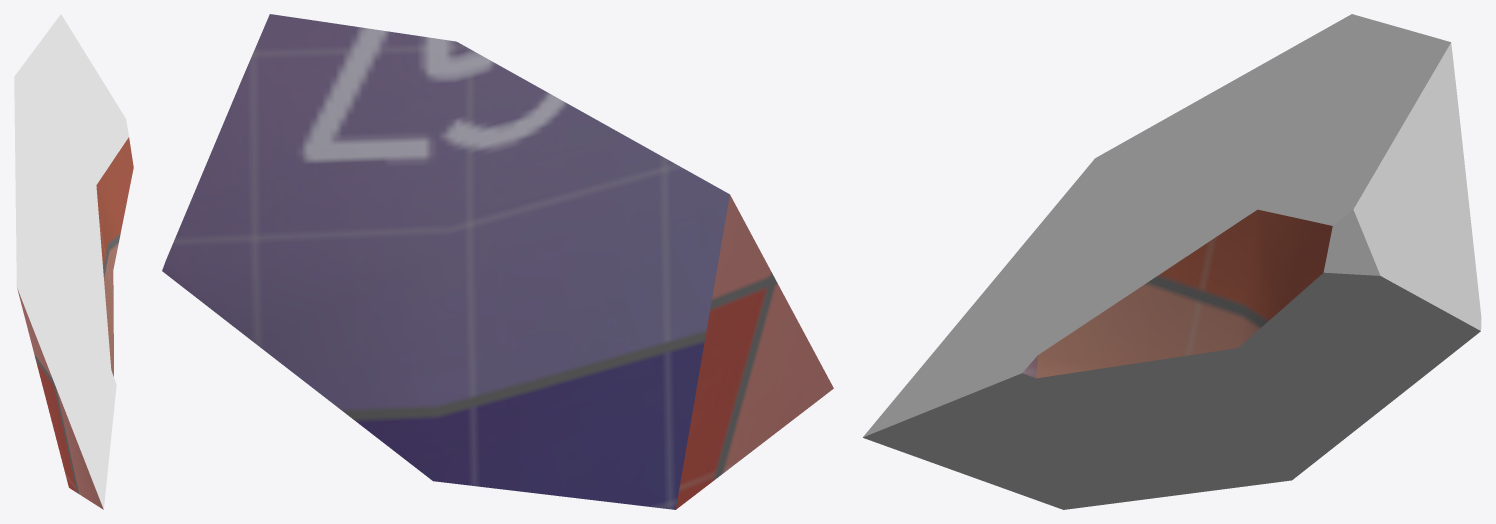
File: LongVase_SHAT_cell_007.fbx
3 views of the same model, side by side, from view 1: azimuth 30°, elevation 25°; view 2: azimuth 150°, elevation 25°; view 3: azimuth 270°, elevation 25° (orthographic). The views are drawn at different scales.
Parts seen in each view (by area): view 1: LongVase_SHAT_cell_007; view 2: LongVase_SHAT_cell_007; view 3: LongVase_SHAT_cell_007.
Boxes of the visible parts, <box> form: LongVase_SHAT_cell_007: <box>14,14,133,509</box>; LongVase_SHAT_cell_007: <box>162,14,833,509</box>; LongVase_SHAT_cell_007: <box>863,14,1481,509</box>.
Bounding box in the file's own units: 0.2763 × 0.4419 × 0.4457.
Materials: 2 (1 with a texture image).
